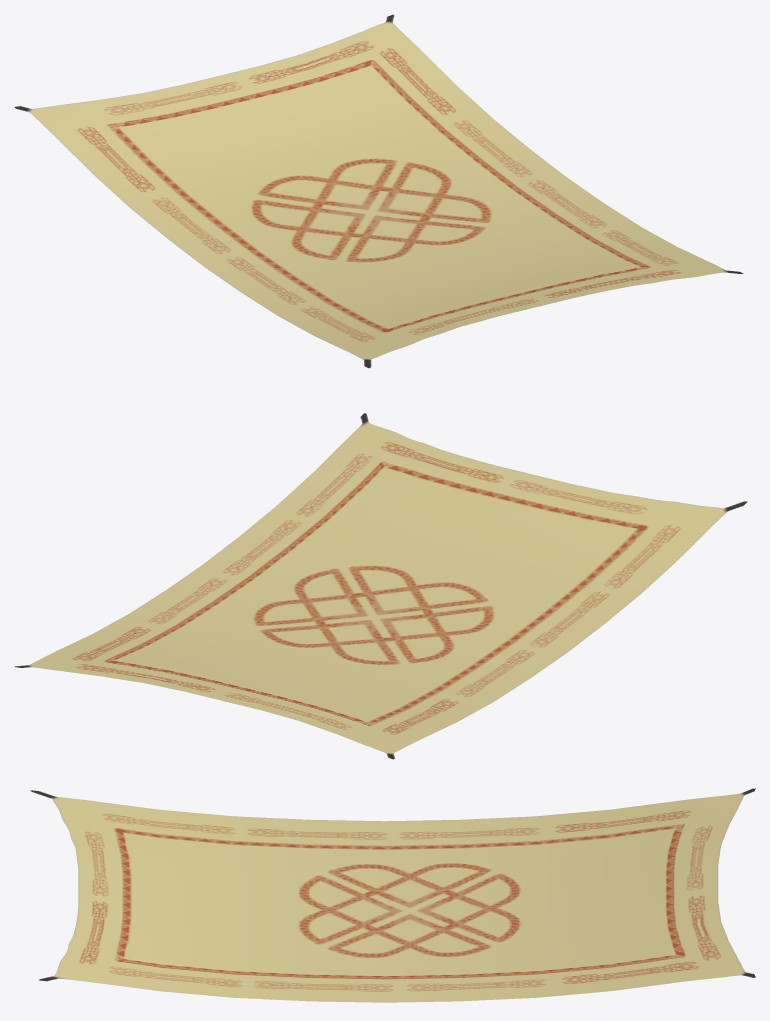
The model's file is Sheet_01.fbx.
3 renders of one model, top to bottom at view 1: azimuth 30°, elevation 25°; view 2: azimuth 150°, elevation 25°; view 3: azimuth 270°, elevation 25°, orthographic. The views are drawn at different scales.
Visible parts, largest first — view 1: pPlane4; view 2: pPlane4; view 3: pPlane4.
Part boxes in pixels (left/top/right/bottom): pPlane4: left=14, top=14, right=743, bottom=368; pPlane4: left=14, top=413, right=747, bottom=759; pPlane4: left=30, top=788, right=755, bottom=1002.
Bounding box in the file's own units: 5.22 × 0.3721 × 8.65.
